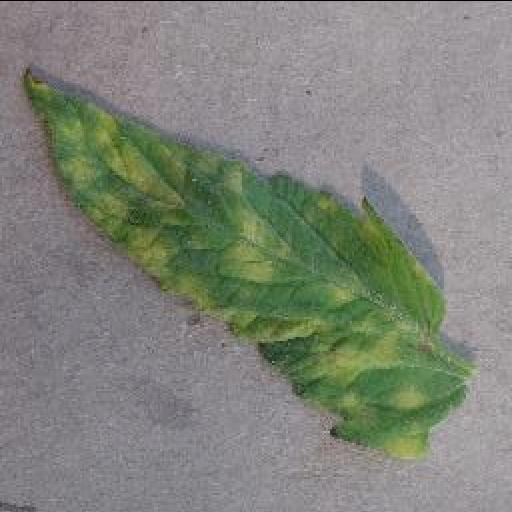disease_tomato: (22, 68, 476, 458)
